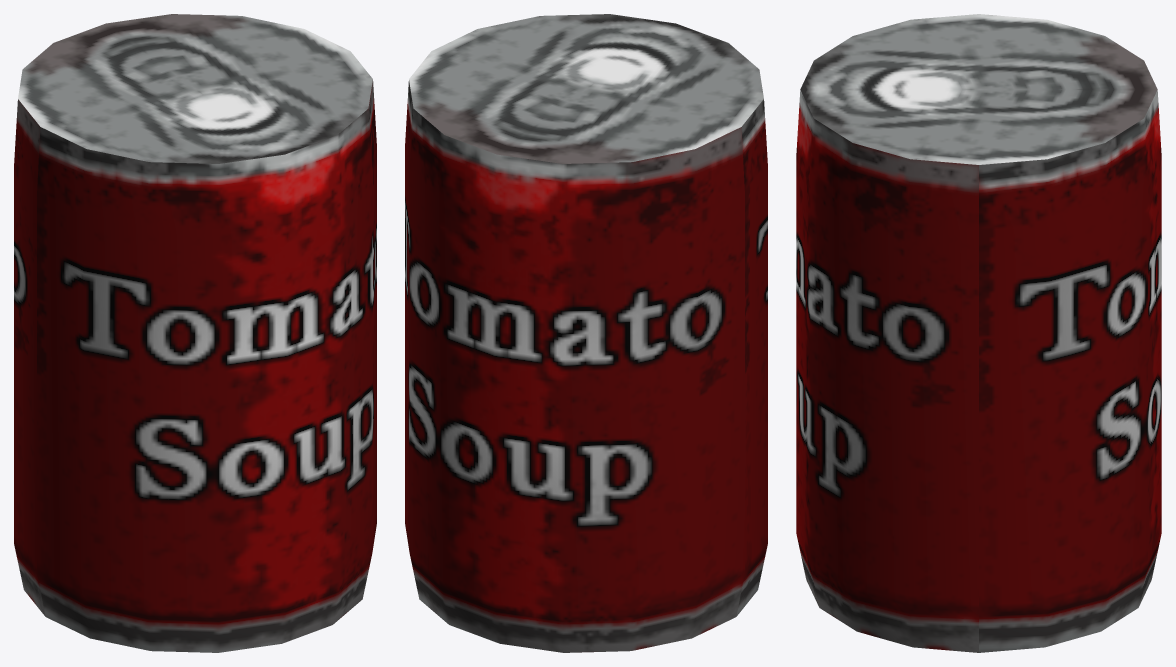
The model's file is Can.fbx.
The picture shows the model from 3 angles, left to right: view 1: azimuth 30°, elevation 25°; view 2: azimuth 150°, elevation 25°; view 3: azimuth 270°, elevation 25°; orthographic projection.
Parts seen in each view (by area): view 1: polySurface3; view 2: polySurface3; view 3: polySurface3.
Part boxes in pixels (x1,y1,x2,y2): polySurface3: (14, 14, 376, 652); polySurface3: (405, 14, 767, 652); polySurface3: (796, 14, 1161, 652).
Bounding box in the file's own units: 45.24 × 67 × 45.24.
